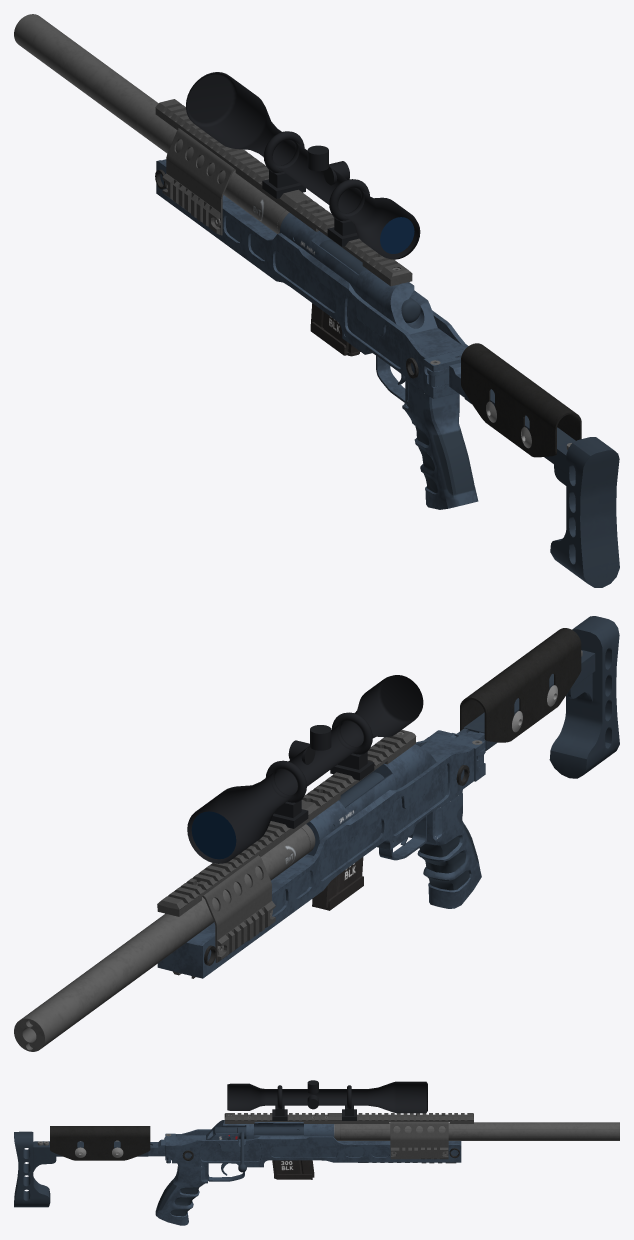
File: sniper.glb
3 renders of one model, top to bottom at view 1: azimuth 30°, elevation 25°; view 2: azimuth 150°, elevation 25°; view 3: azimuth 270°, elevation 25°, orthographic. The views are drawn at different scales.
Parts seen in each view (by area): view 1: Material.002, Material.001, scope, lens; view 2: Material.002, Material.001, scope, lens; view 3: Material.002, Material.001, scope.
Part boxes in pixels (x1=…): Material.002: x1=14, y1=14, x2=619, y2=587; Material.001: x1=155, y1=159, x2=571, y2=449; scope: x1=186, y1=72, x2=420, y2=259; lens: x1=380, y1=217, x2=414, y2=253; Material.002: x1=14, y1=616, x2=619, y2=1051; Material.001: x1=157, y1=650, x2=582, y2=978; scope: x1=187, y1=675, x2=423, y2=863; lens: x1=191, y1=811, x2=236, y2=859; Material.002: x1=14, y1=1113, x2=619, y2=1225; Material.001: x1=37, y1=1114, x2=461, y2=1183; scope: x1=227, y1=1080, x2=427, y2=1120.
Size of the model in its own units: 67.75 by 204 by 803.
5 materials, 2 textured.
